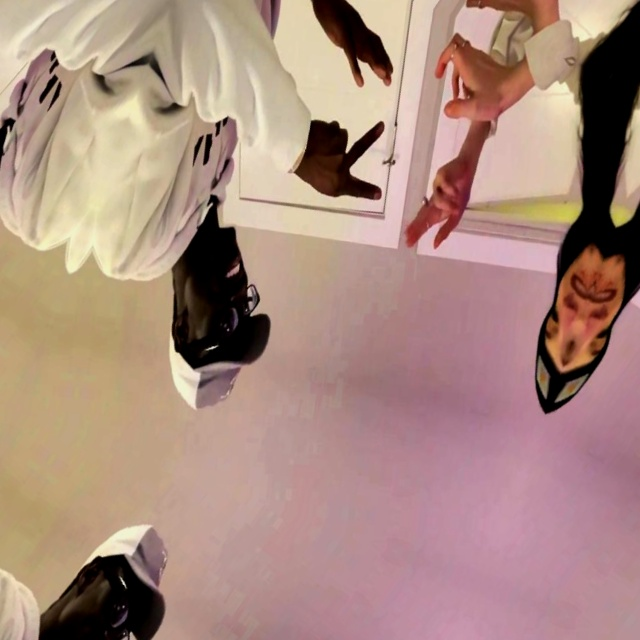Scissors: (382, 140, 495, 269), (0, 0, 5, 71)
